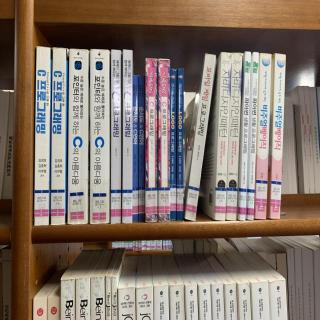book-spine: (185, 53, 215, 221), (67, 49, 87, 225), (90, 49, 109, 224), (215, 52, 232, 221), (34, 46, 50, 225), (255, 53, 272, 220), (226, 53, 242, 220), (270, 53, 286, 219), (51, 48, 66, 225), (110, 50, 121, 224), (122, 49, 133, 223), (146, 58, 157, 222), (159, 59, 170, 222), (240, 51, 250, 221), (248, 52, 258, 220), (177, 69, 184, 221), (170, 69, 176, 220), (139, 76, 145, 221), (133, 75, 138, 221)
